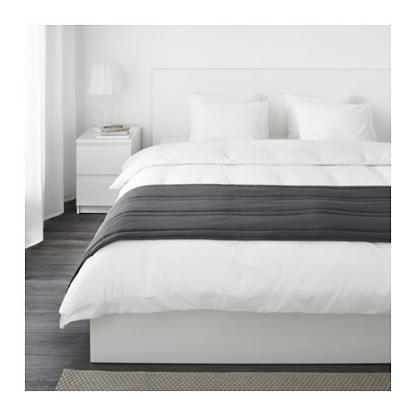Bed: (88, 66, 392, 368)
